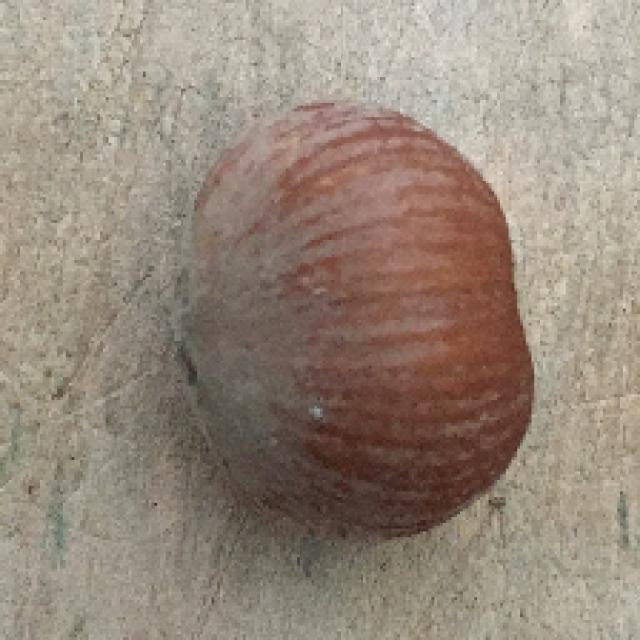qualityHazelnut: (167, 100, 538, 536)
